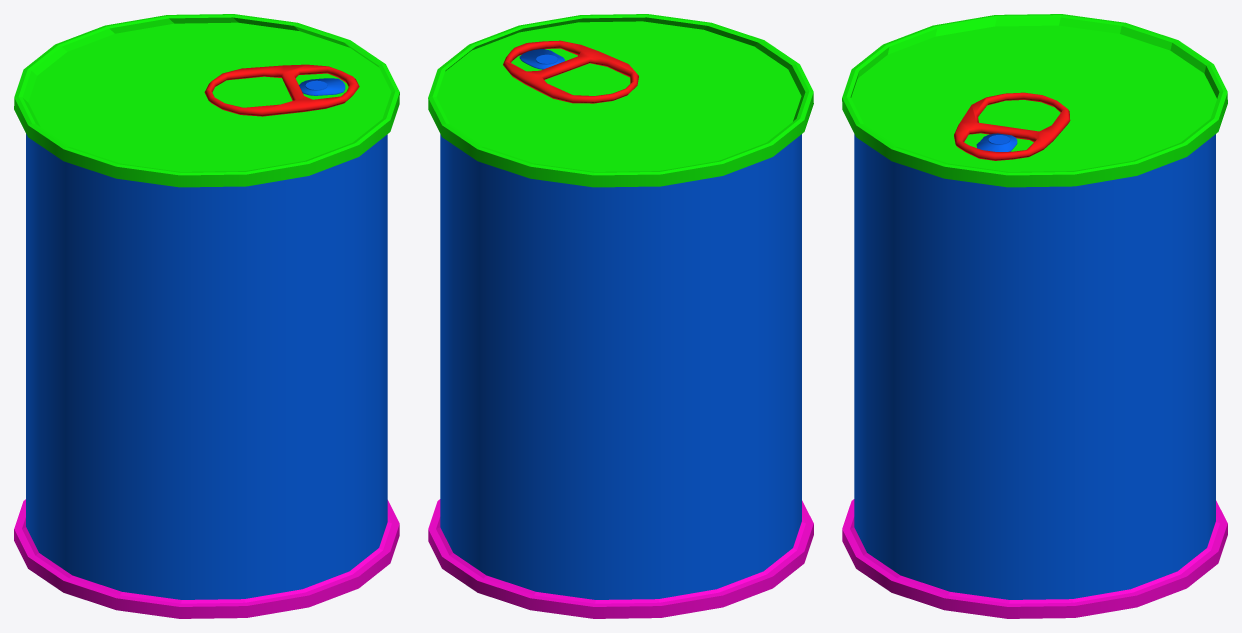
File: SoupCan.fbx
3 renders of one model, left to right at view 1: azimuth 30°, elevation 25°; view 2: azimuth 150°, elevation 25°; view 3: azimuth 270°, elevation 25°, orthographic.
Parts seen in each view (by area): view 1: Soup Can001; view 2: Soup Can001; view 3: Soup Can001.
Part boxes in pixels (bbox=[...]): Soup Can001: bbox=[14, 14, 399, 618]; Soup Can001: bbox=[428, 14, 813, 618]; Soup Can001: bbox=[842, 14, 1227, 618].
Bounding box in the file's own units: 3.25 × 4.18 × 3.28.
